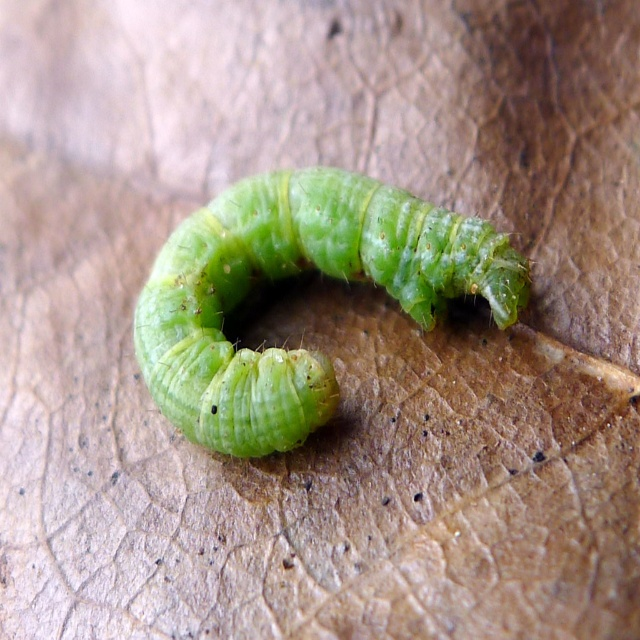Caterpillar: (132, 163, 534, 460)
